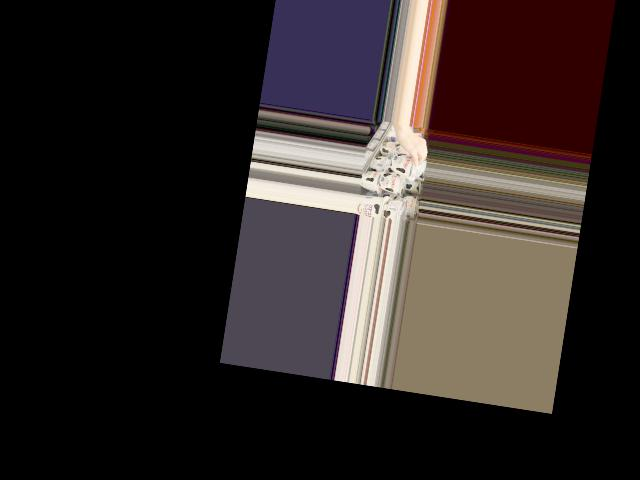cotage: (389, 153, 418, 181)
